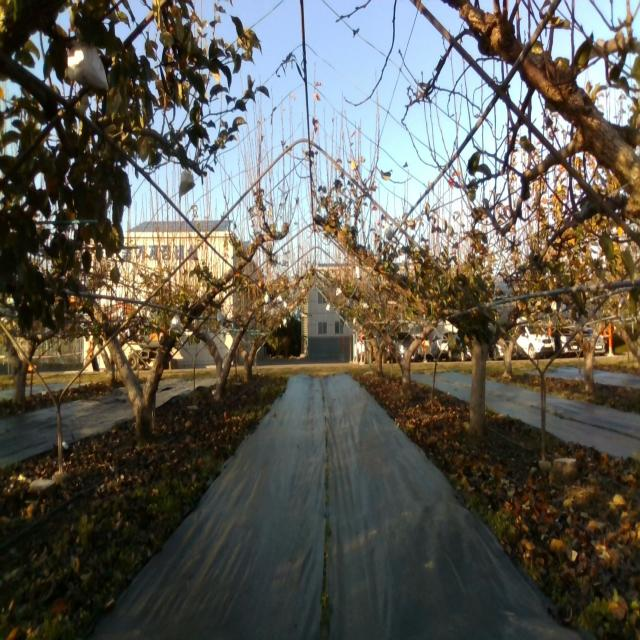pearbags: (66, 38, 109, 96), (179, 169, 196, 197), (170, 315, 182, 333)
